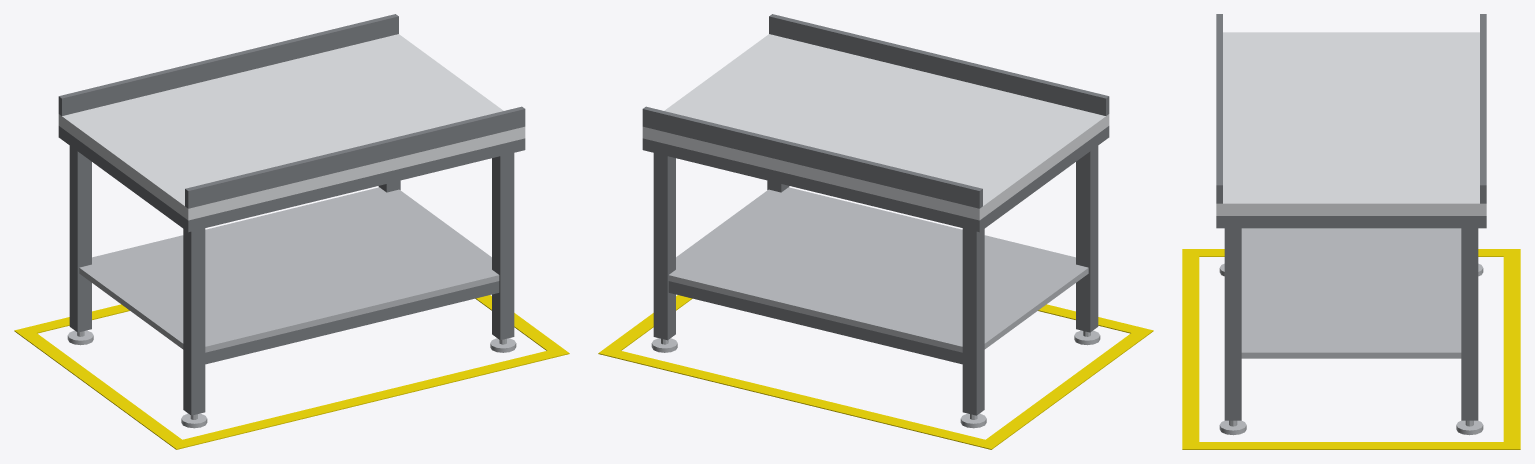
The model's file is espera.glb.
3 views of the same model, side by side, from view 1: azimuth 30°, elevation 25°; view 2: azimuth 150°, elevation 25°; view 3: azimuth 270°, elevation 25° (orthographic). The views are drawn at different scales.
Parts seen in each view (by area): view 1: estrutura, faixa; view 2: estrutura, faixa; view 3: estrutura, faixa.
Part boxes in pixels (x1,y1,x2,y2): estrutura: (58,14,525,428); faixa: (14,295,569,449); estrutura: (642,14,1109,428); faixa: (598,295,1153,449); estrutura: (1216,14,1486,435); faixa: (1182,249,1520,449).
Bounding box in the file's own units: 1.4 × 0.82 × 1.
